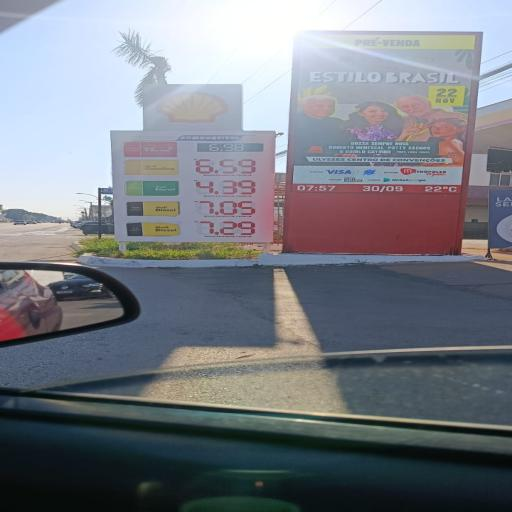ETANOL: (126, 180, 182, 199)
GASOLINA AD: (124, 142, 178, 158)
GASOLINA C: (122, 161, 182, 175)
S10: (122, 221, 187, 238)
S500: (125, 203, 182, 217)
placa: (111, 130, 274, 242)
preco: (188, 157, 264, 175), (189, 200, 263, 217), (191, 180, 264, 197), (196, 221, 260, 237), (197, 142, 267, 153)
